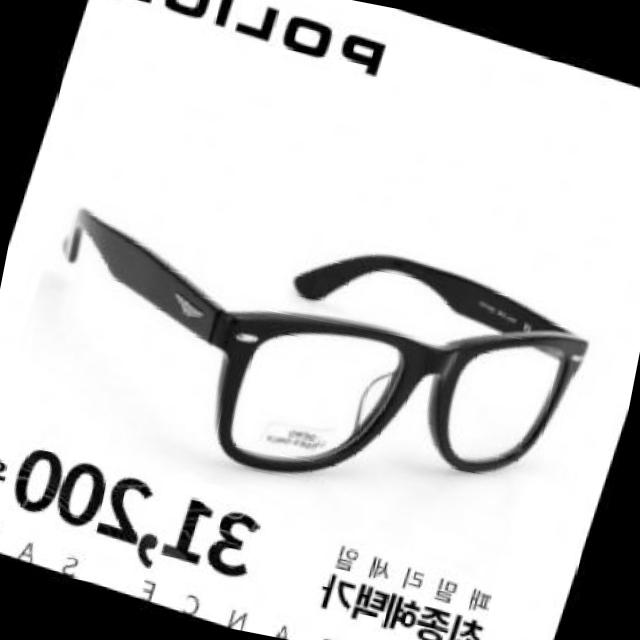glasses: (2, 148, 610, 558)
